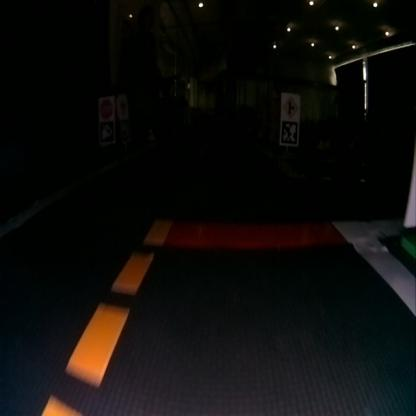Intersection sign: (282, 94, 297, 116)
QR code: (281, 121, 296, 143), (100, 120, 112, 140)
Stop sign: (100, 98, 112, 119)
